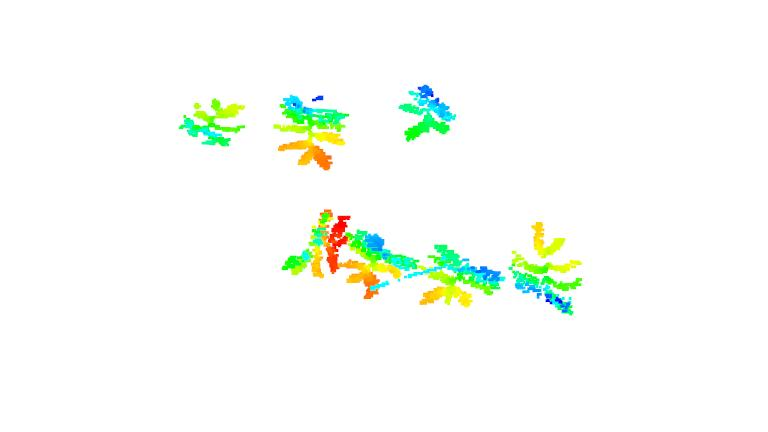chickpea: (509, 224, 586, 316), (275, 91, 353, 172), (415, 241, 504, 310), (345, 230, 420, 299), (286, 208, 350, 281), (179, 93, 246, 150), (397, 79, 456, 143)
